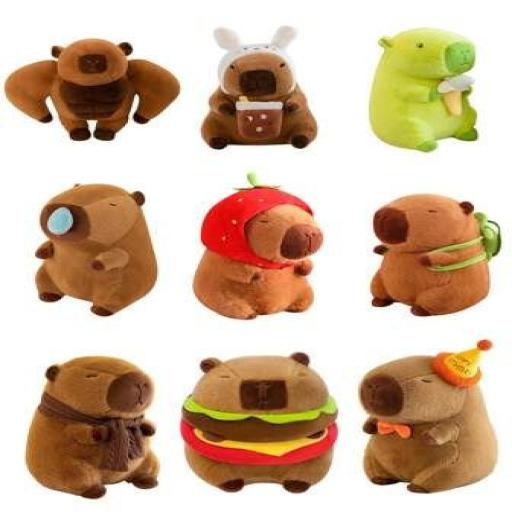capibara: (355, 184, 512, 322), (352, 359, 512, 490), (365, 24, 509, 168), (26, 347, 183, 477), (28, 182, 170, 321), (199, 177, 329, 319), (18, 40, 172, 134), (209, 34, 324, 148)
